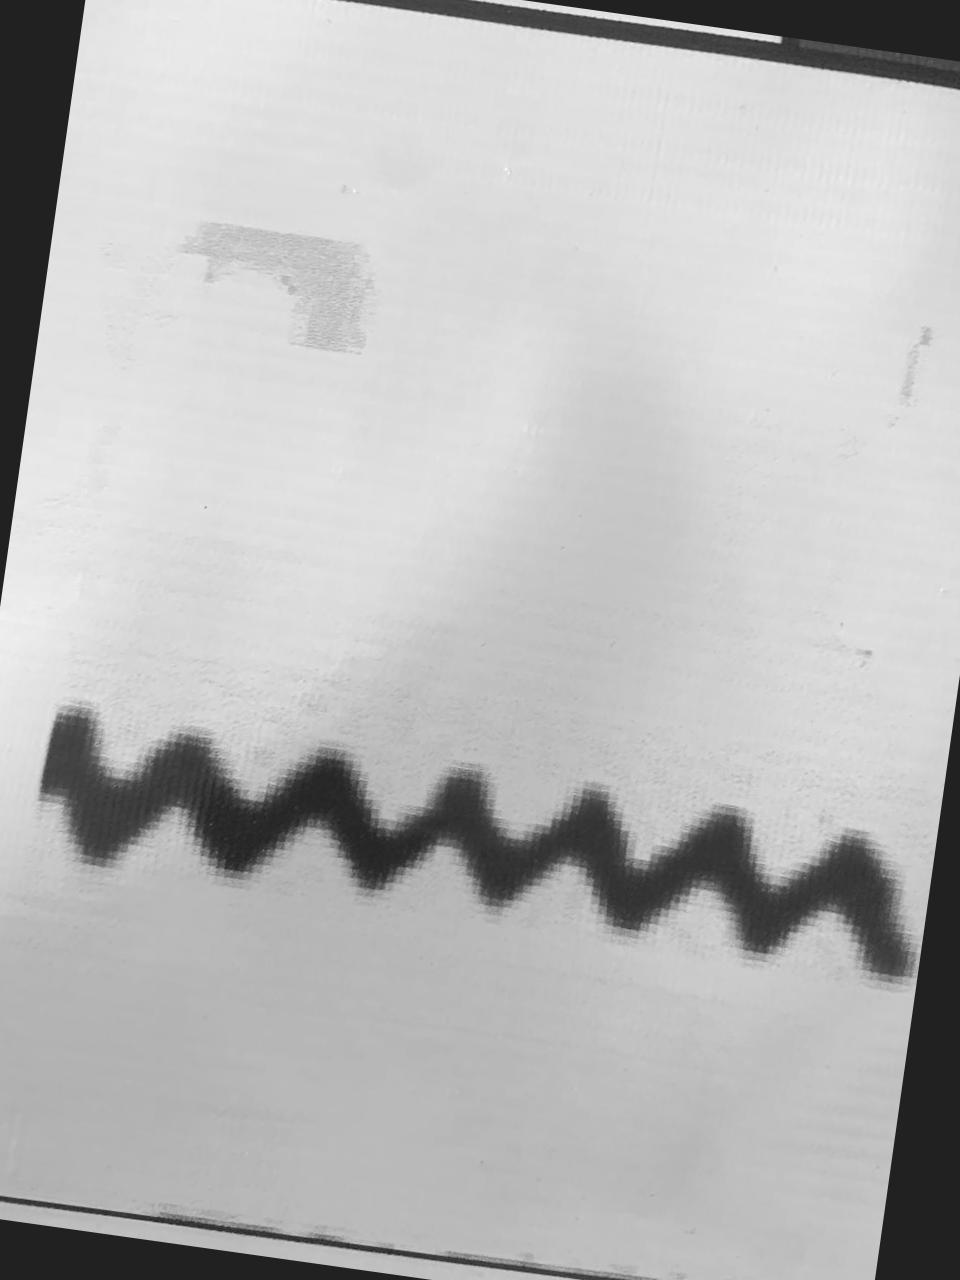Water: (26, 690, 914, 994)
